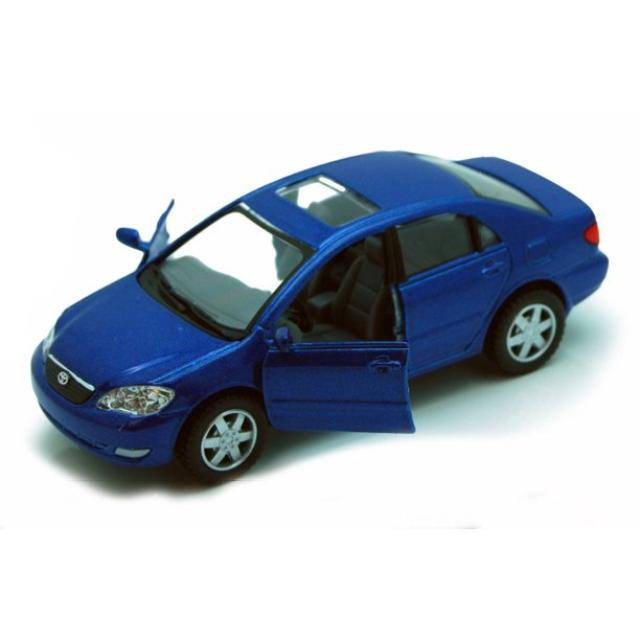Car: (29, 149, 609, 484)
